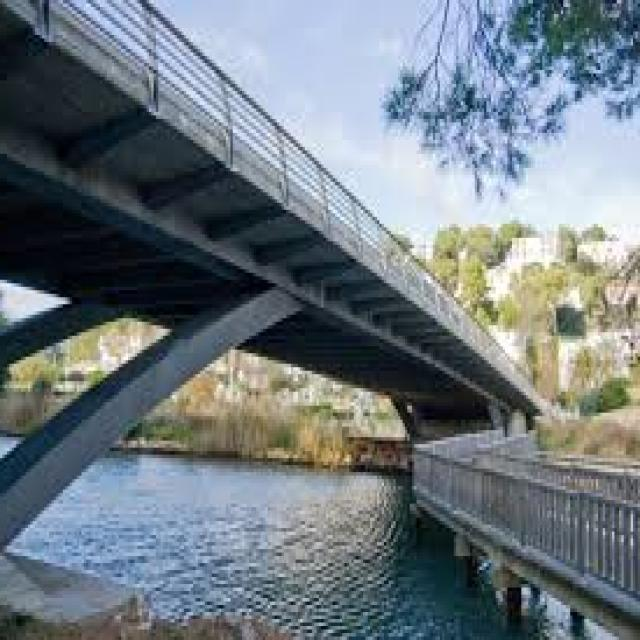Bridges: (0, 0, 547, 462)
